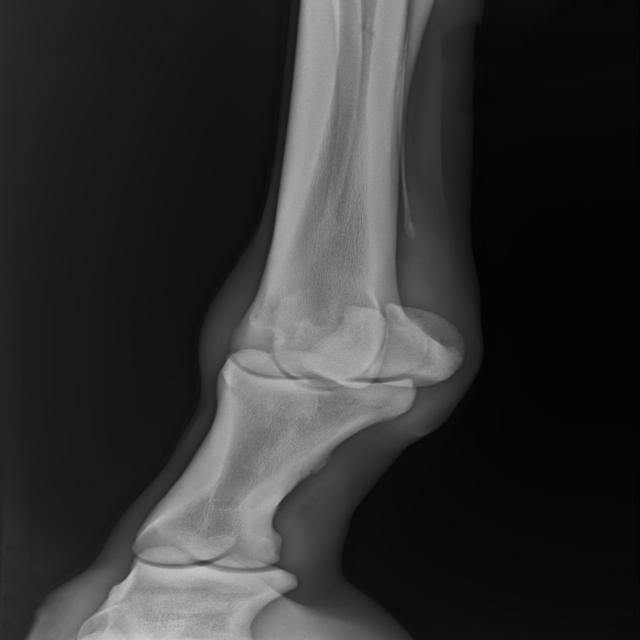joint-ht8A: (177, 265, 501, 462)
